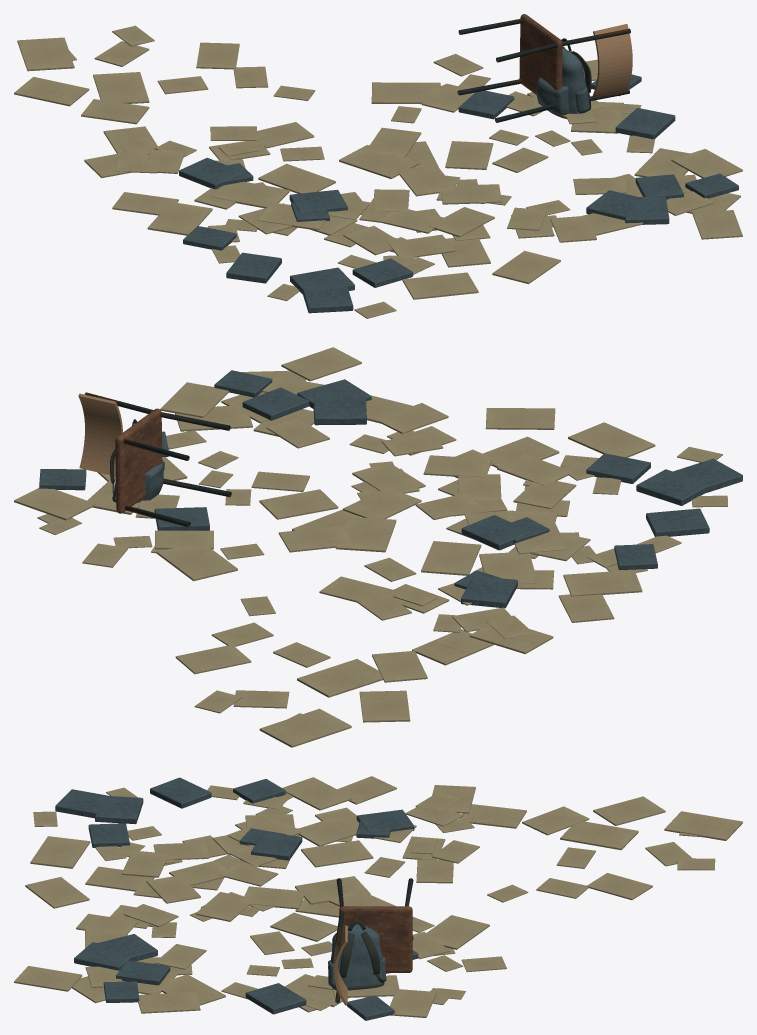
Rendered from ENV_C1_RoomDisarray.fbx.
The picture shows the model from 3 angles, top to bottom: view 1: azimuth 30°, elevation 25°; view 2: azimuth 150°, elevation 25°; view 3: azimuth 270°, elevation 25°; orthographic projection. The views are drawn at different scales.
Visible parts, largest first — view 1: SM_C1_OverturnedChair_00, SM_C1_OverturnedChair_05, SM_C1_DumpedBag_00, SM_C1_ScatteredPaper_091, SM_C1_ScatteredPaper_029, SM_C1_ScatteredPaper_015, SM_C1_ScatteredPaper_055, SM_C1_ScatteredPaper_066, SM_C1_FallenBook_15, SM_C1_ScatteredPaper_043, SM_C1_ScatteredPaper_092, SM_C1_FallenBook_10 (+56 smaller); view 2: SM_C1_OverturnedChair_00, SM_C1_OverturnedChair_05, SM_C1_ScatteredPaper_091, SM_C1_ScatteredPaper_015, SM_C1_FallenBook_10, SM_C1_ScatteredPaper_055, SM_C1_ScatteredPaper_029, SM_C1_ScatteredPaper_066, SM_C1_ScatteredPaper_092, SM_C1_ScatteredPaper_009, SM_C1_ScatteredPaper_083, SM_C1_ScatteredPaper_007 (+49 smaller); view 3: SM_C1_OverturnedChair_00, SM_C1_DumpedBag_00, SM_C1_ScatteredPaper_091, SM_C1_ScatteredPaper_015, SM_C1_ScatteredPaper_029, SM_C1_ScatteredPaper_066, SM_C1_ScatteredPaper_092, SM_C1_ScatteredPaper_055, SM_C1_ScatteredPaper_043, SM_C1_FallenBook_10, SM_C1_ScatteredPaper_007, SM_C1_FallenBook_15 (+58 smaller).
Boxes of the visible parts, box(x1,y1,x2,y2) form: SM_C1_OverturnedChair_00: box(519, 14, 562, 94); SM_C1_OverturnedChair_05: box(592, 24, 632, 95); SM_C1_DumpedBag_00: box(536, 48, 590, 114); SM_C1_ScatteredPaper_091: box(17, 37, 74, 71); SM_C1_ScatteredPaper_029: box(402, 272, 478, 299); SM_C1_ScatteredPaper_015: box(93, 72, 149, 103); SM_C1_ScatteredPaper_055: box(371, 82, 440, 104); SM_C1_ScatteredPaper_066: box(147, 202, 212, 235); SM_C1_FallenBook_15: box(302, 282, 353, 313); SM_C1_ScatteredPaper_043: box(210, 181, 289, 208); SM_C1_ScatteredPaper_092: box(258, 163, 335, 193); SM_C1_FallenBook_10: box(586, 190, 658, 220); SM_C1_OverturnedChair_00: box(115, 408, 162, 513); SM_C1_OverturnedChair_05: box(78, 393, 122, 476); SM_C1_ScatteredPaper_091: box(259, 708, 351, 747); SM_C1_ScatteredPaper_015: box(297, 659, 383, 697); SM_C1_FallenBook_10: box(313, 391, 366, 425); SM_C1_ScatteredPaper_055: box(156, 547, 237, 581); SM_C1_ScatteredPaper_029: box(568, 422, 655, 457); SM_C1_ScatteredPaper_066: box(563, 570, 642, 596); SM_C1_ScatteredPaper_092: box(421, 541, 481, 575); SM_C1_ScatteredPaper_009: box(335, 516, 396, 552); SM_C1_ScatteredPaper_083: box(485, 408, 555, 429); SM_C1_ScatteredPaper_007: box(359, 690, 410, 722); SM_C1_OverturnedChair_00: box(339, 906, 412, 972); SM_C1_DumpedBag_00: box(328, 924, 386, 986); SM_C1_ScatteredPaper_091: box(664, 811, 742, 840); SM_C1_ScatteredPaper_015: box(560, 821, 638, 850); SM_C1_ScatteredPaper_029: box(30, 836, 90, 868); SM_C1_ScatteredPaper_066: box(282, 777, 352, 810); SM_C1_ScatteredPaper_092: box(301, 840, 373, 867); SM_C1_ScatteredPaper_055: box(426, 915, 489, 949); SM_C1_ScatteredPaper_043: box(298, 814, 359, 846); SM_C1_FallenBook_10: box(88, 934, 157, 961); SM_C1_ScatteredPaper_007: box(593, 796, 665, 825); SM_C1_FallenBook_15: box(55, 789, 118, 818).
Bounding box in the file's own units: 3.47 × 0.5103 × 4.36.
